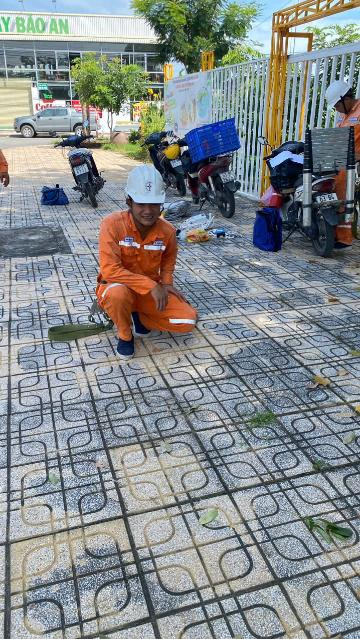helmet: (124, 160, 173, 210)
shoes: (111, 331, 141, 368), (127, 309, 155, 344)
